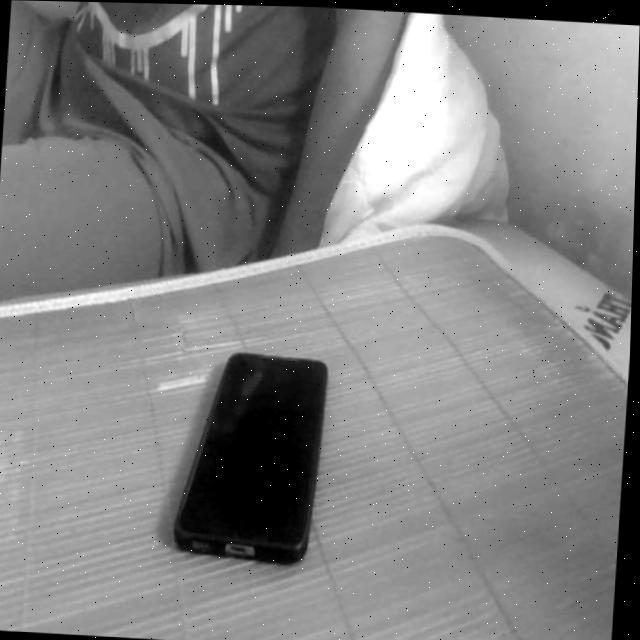phone: (157, 320, 346, 584)
